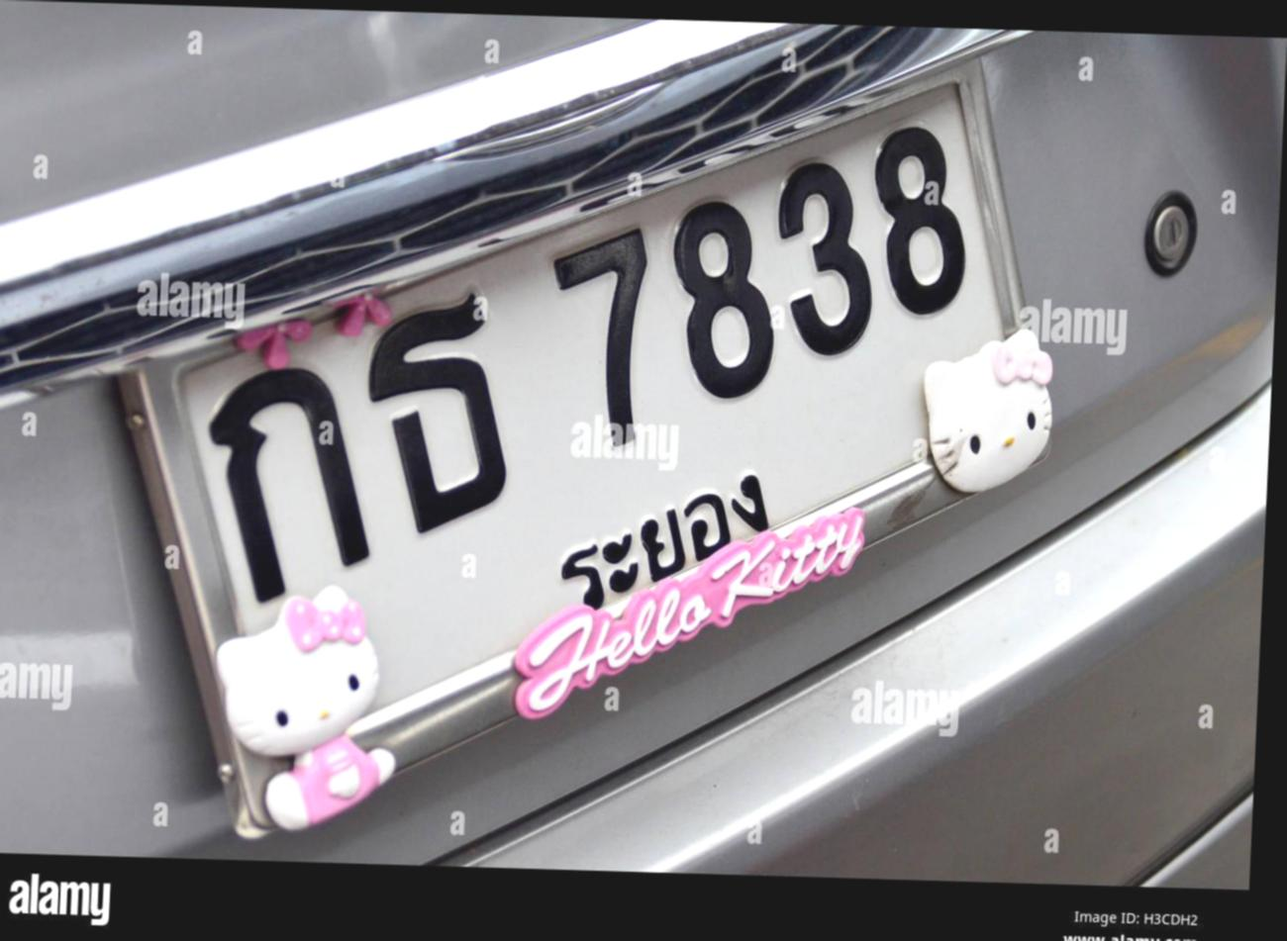License_Plate: (5, 11, 1210, 874)
